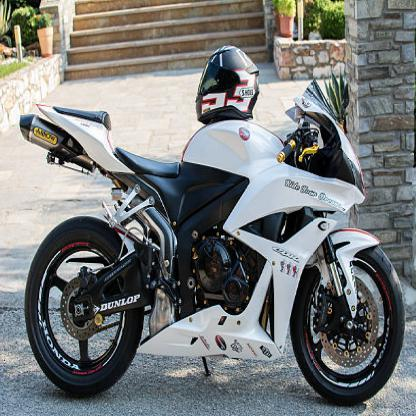Motorcycle: (13, 66, 406, 408)
